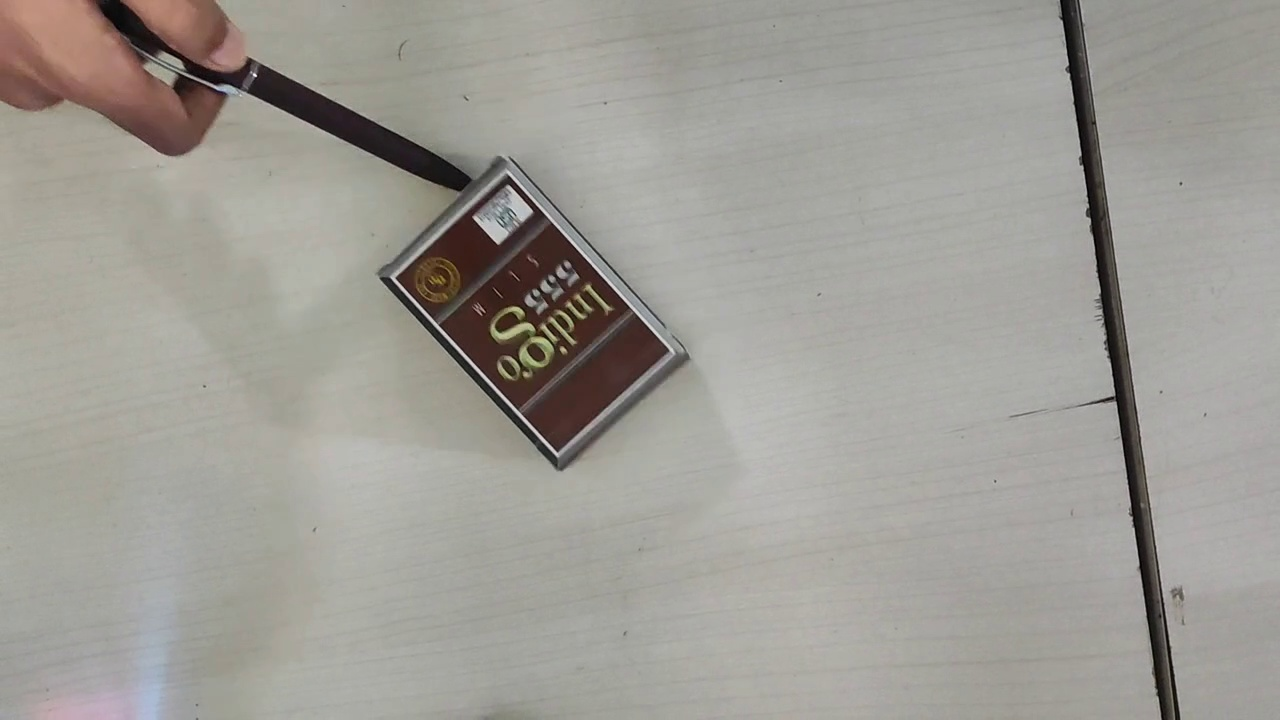BEX: (389, 172, 670, 456)
